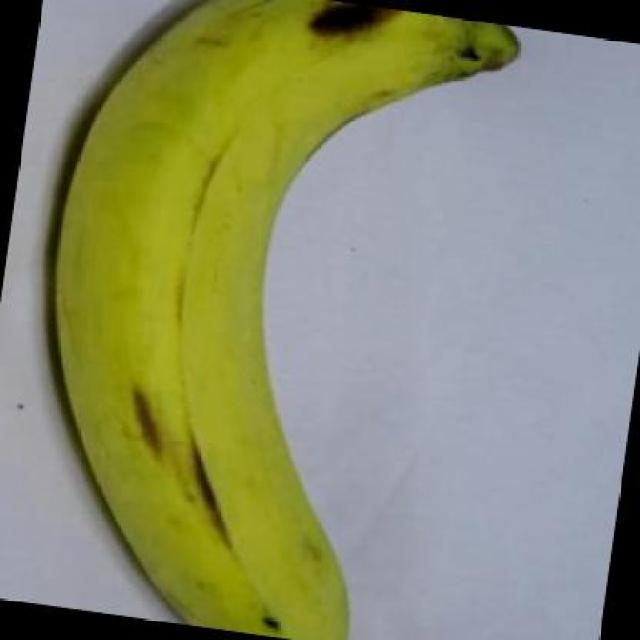ripe: (51, 0, 533, 640)
